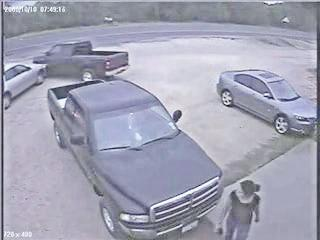Car: (54, 84, 211, 226), (217, 70, 315, 135), (32, 44, 129, 78), (4, 62, 45, 108)
Minor Accident: (2, 39, 128, 112)
